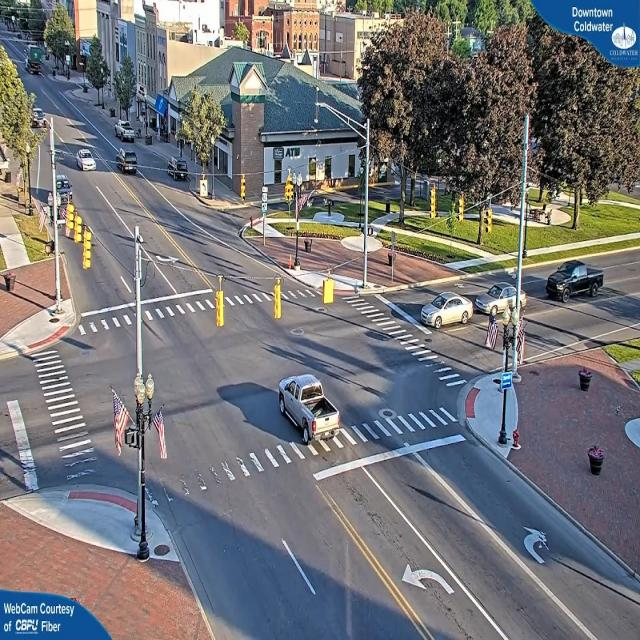car: (277, 370, 341, 448), (544, 260, 605, 300), (422, 290, 472, 336), (476, 278, 529, 320), (165, 158, 189, 180), (117, 150, 138, 174), (71, 149, 91, 172), (116, 123, 136, 142)
